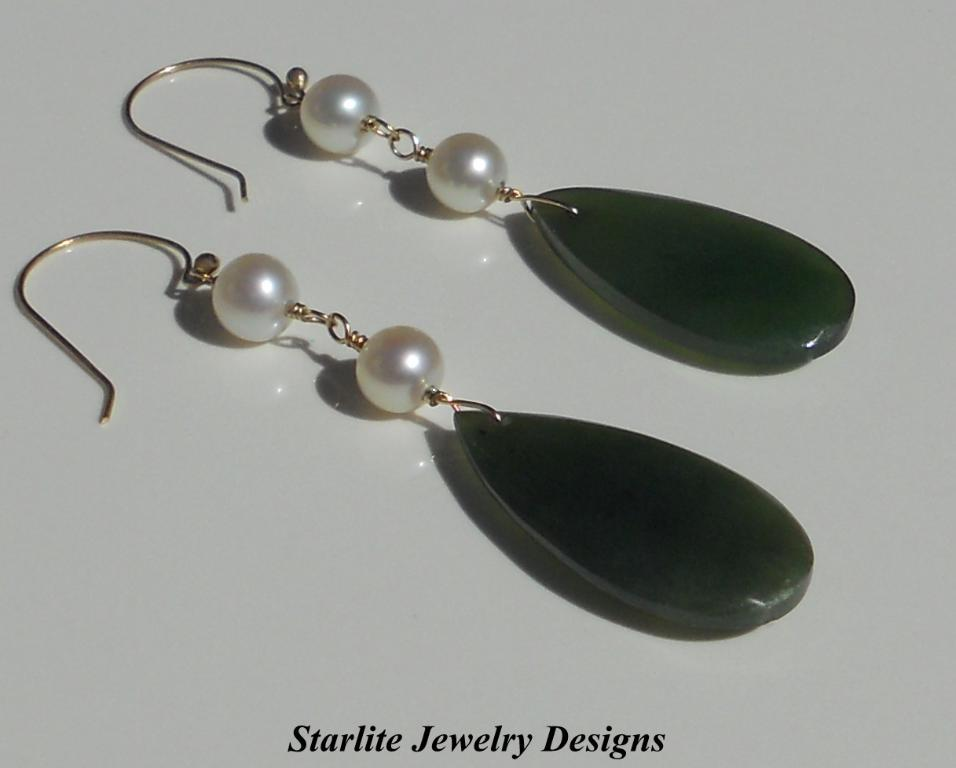earring: (15, 217, 815, 645), (127, 49, 857, 377)
